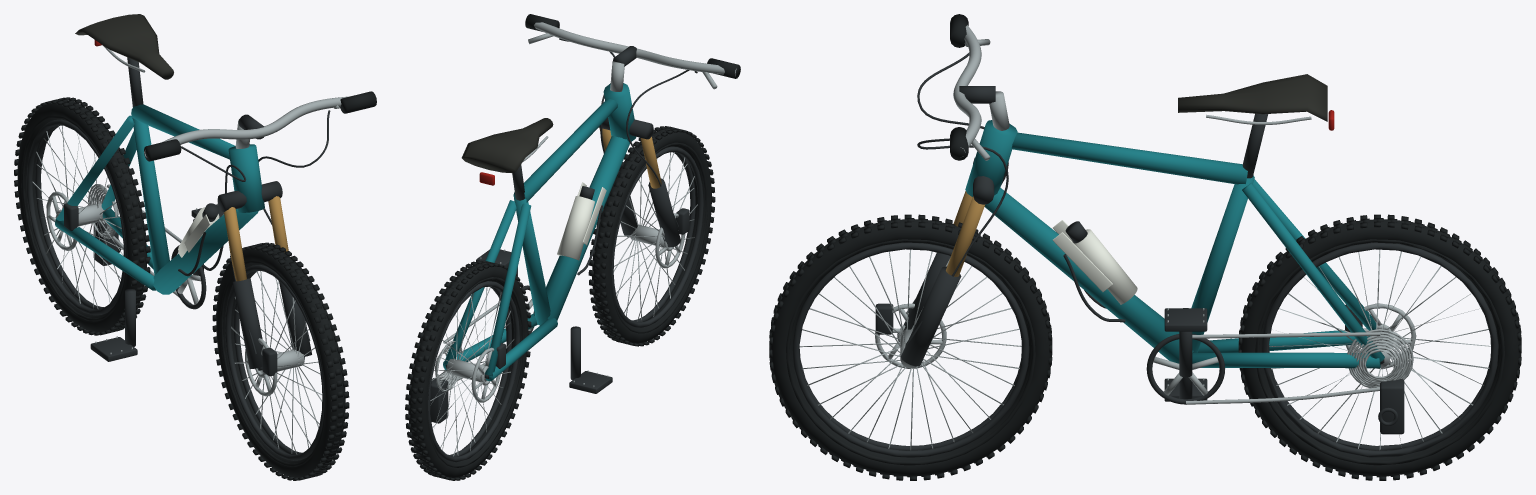
File: mountain-bike.glb
The picture shows the model from 3 angles, left to right: view 1: azimuth 30°, elevation 25°; view 2: azimuth 150°, elevation 25°; view 3: azimuth 270°, elevation 25°; orthographic projection. The views are drawn at different scales.
Visible parts, largest first — view 1: Frame, FrontWheel, RearWheel, Crank, LeftPedal; view 2: Frame, RearWheel, FrontWheel, Crank, LeftPedal; view 3: Frame, RearWheel, FrontWheel, Crank, RightPedal.
Part boxes in pixels (bbox=[...]): Frame: bbox=[55, 14, 376, 376]; FrontWheel: bbox=[212, 242, 349, 480]; RearWheel: bbox=[14, 97, 150, 335]; Crank: bbox=[125, 218, 206, 346]; LeftPedal: bbox=[90, 336, 137, 361]; Frame: bbox=[430, 14, 740, 423]; RearWheel: bbox=[405, 260, 531, 480]; FrontWheel: bbox=[588, 126, 715, 346]; Crank: bbox=[505, 267, 580, 379]; LeftPedal: bbox=[569, 370, 612, 393]; Frame: bbox=[875, 14, 1404, 434]; RearWheel: bbox=[1238, 214, 1521, 480]; FrontWheel: bbox=[769, 214, 1052, 480]; Crank: bbox=[1146, 308, 1225, 404]; RightPedal: bbox=[1164, 308, 1207, 331].
Bounding box in the file's own units: 0.7662 × 1.08 × 1.86.
